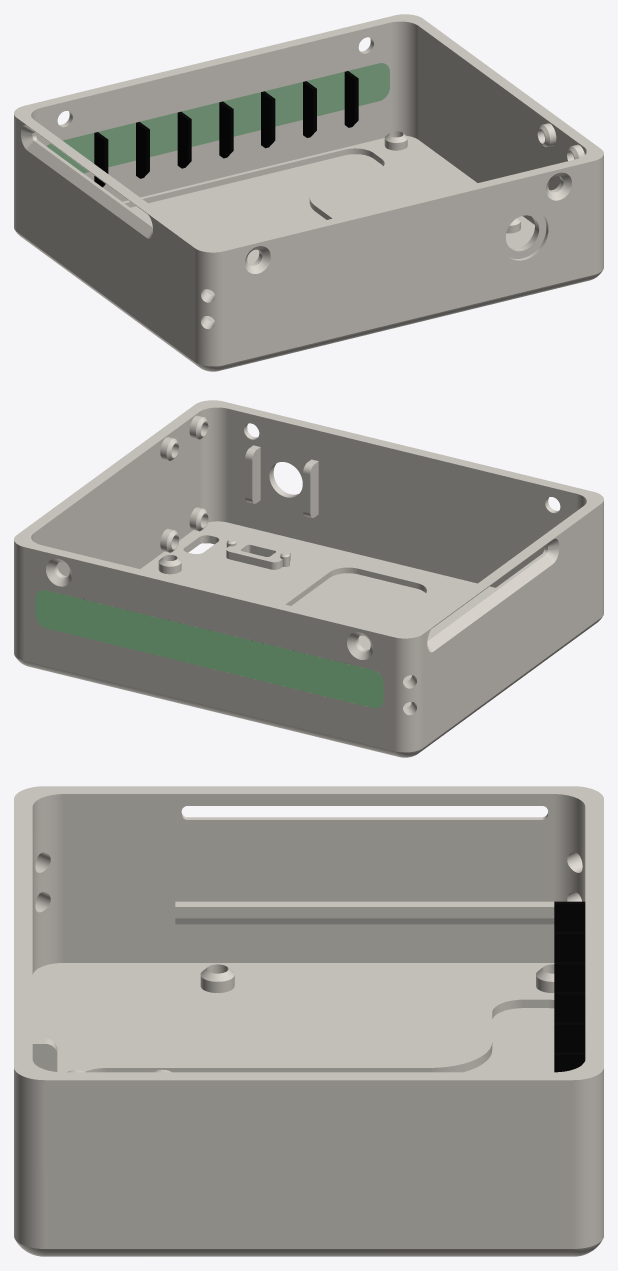
File: TMB prototype V4 - body.glb
The picture shows the model from 3 angles, top to bottom: view 1: azimuth 30°, elevation 25°; view 2: azimuth 150°, elevation 25°; view 3: azimuth 270°, elevation 25°; orthographic projection. The views are drawn at different scales.
Bounding box in the file's own units: 0.112 × 0.033 × 0.095.
